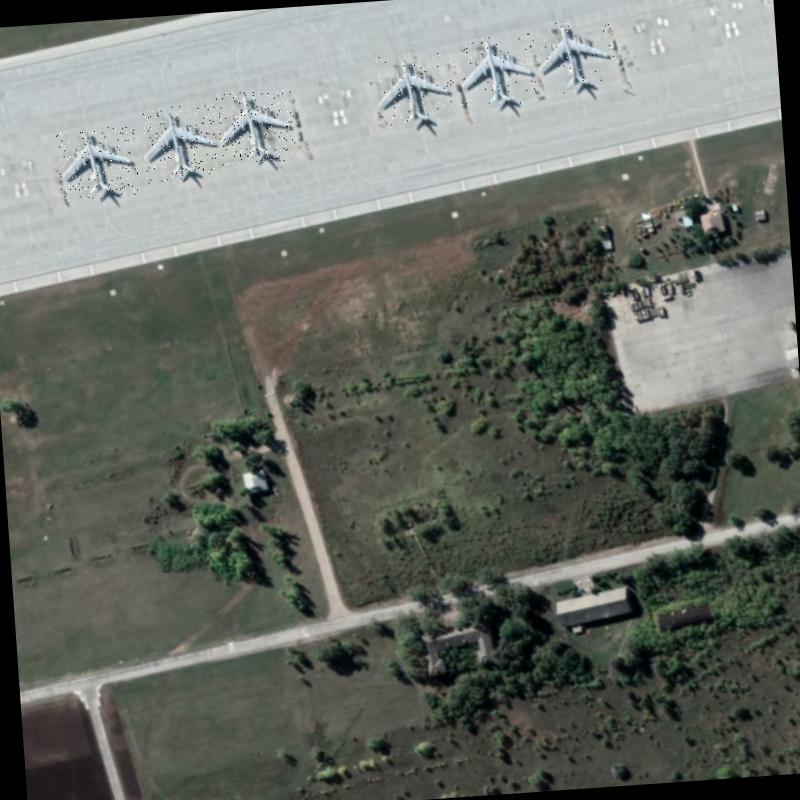A17: (55, 125, 140, 201), (141, 103, 219, 184), (456, 33, 540, 108), (215, 88, 296, 165), (535, 18, 617, 94), (374, 52, 456, 125)
